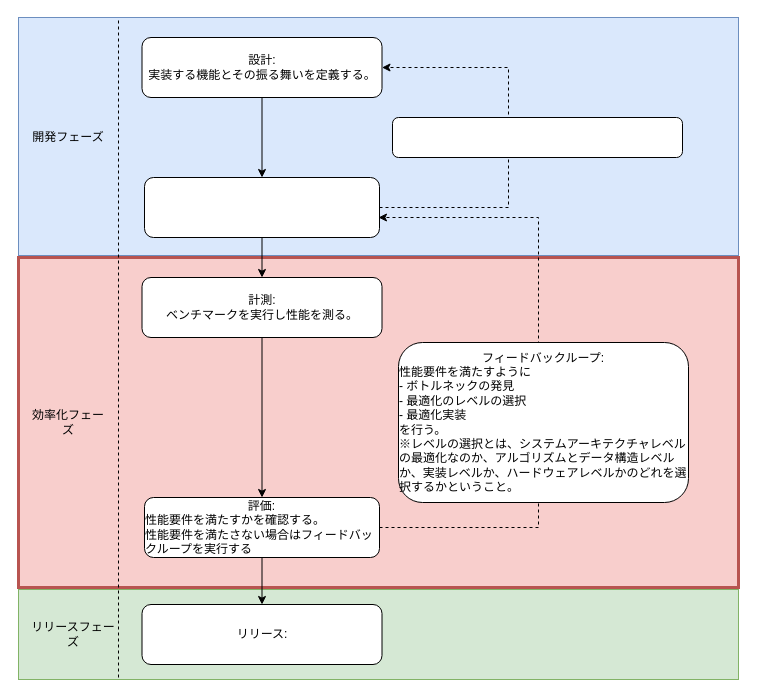
Image size: 757x697. Some labels were removed from this diagram. The centre of each missing label's shape, as x and y in pixels:
"テスト: まずは単純なテスト1つ書く。 （最初は必ず失敗する。実装がないから。） これがパスしたら次の振る舞いをテストする。" goes at pixel 262 207.
"フィードバックループ: テストがパスするように設計/実装/リファクタリングする。" goes at pixel 537 137.
